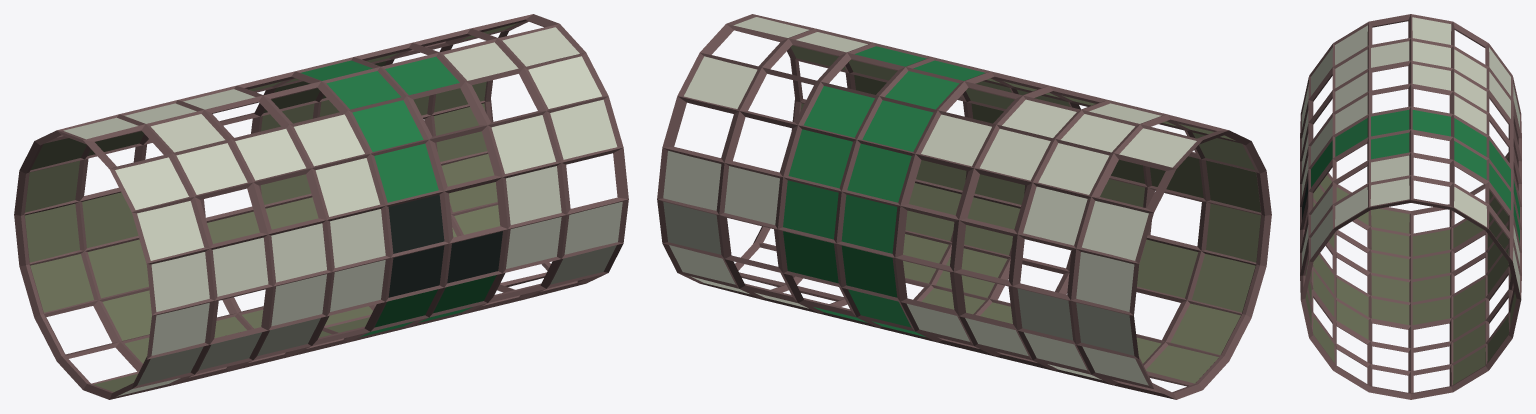
The model's file is CylinderShell.fbx.
The picture shows the model from 3 angles, left to right: view 1: azimuth 30°, elevation 25°; view 2: azimuth 150°, elevation 25°; view 3: azimuth 270°, elevation 25°; orthographic projection. The views are drawn at different scales.
Parts seen in each view (by area): view 1: Cylinder; view 2: Cylinder; view 3: Cylinder.
Part boxes in pixels (x1=…): Cylinder: x1=14, y1=14, x2=628, y2=399; Cylinder: x1=657, y1=14, x2=1271, y2=399; Cylinder: x1=1300, y1=14, x2=1521, y2=399.
Bounding box in the file's own units: 407 × 205 × 205.
